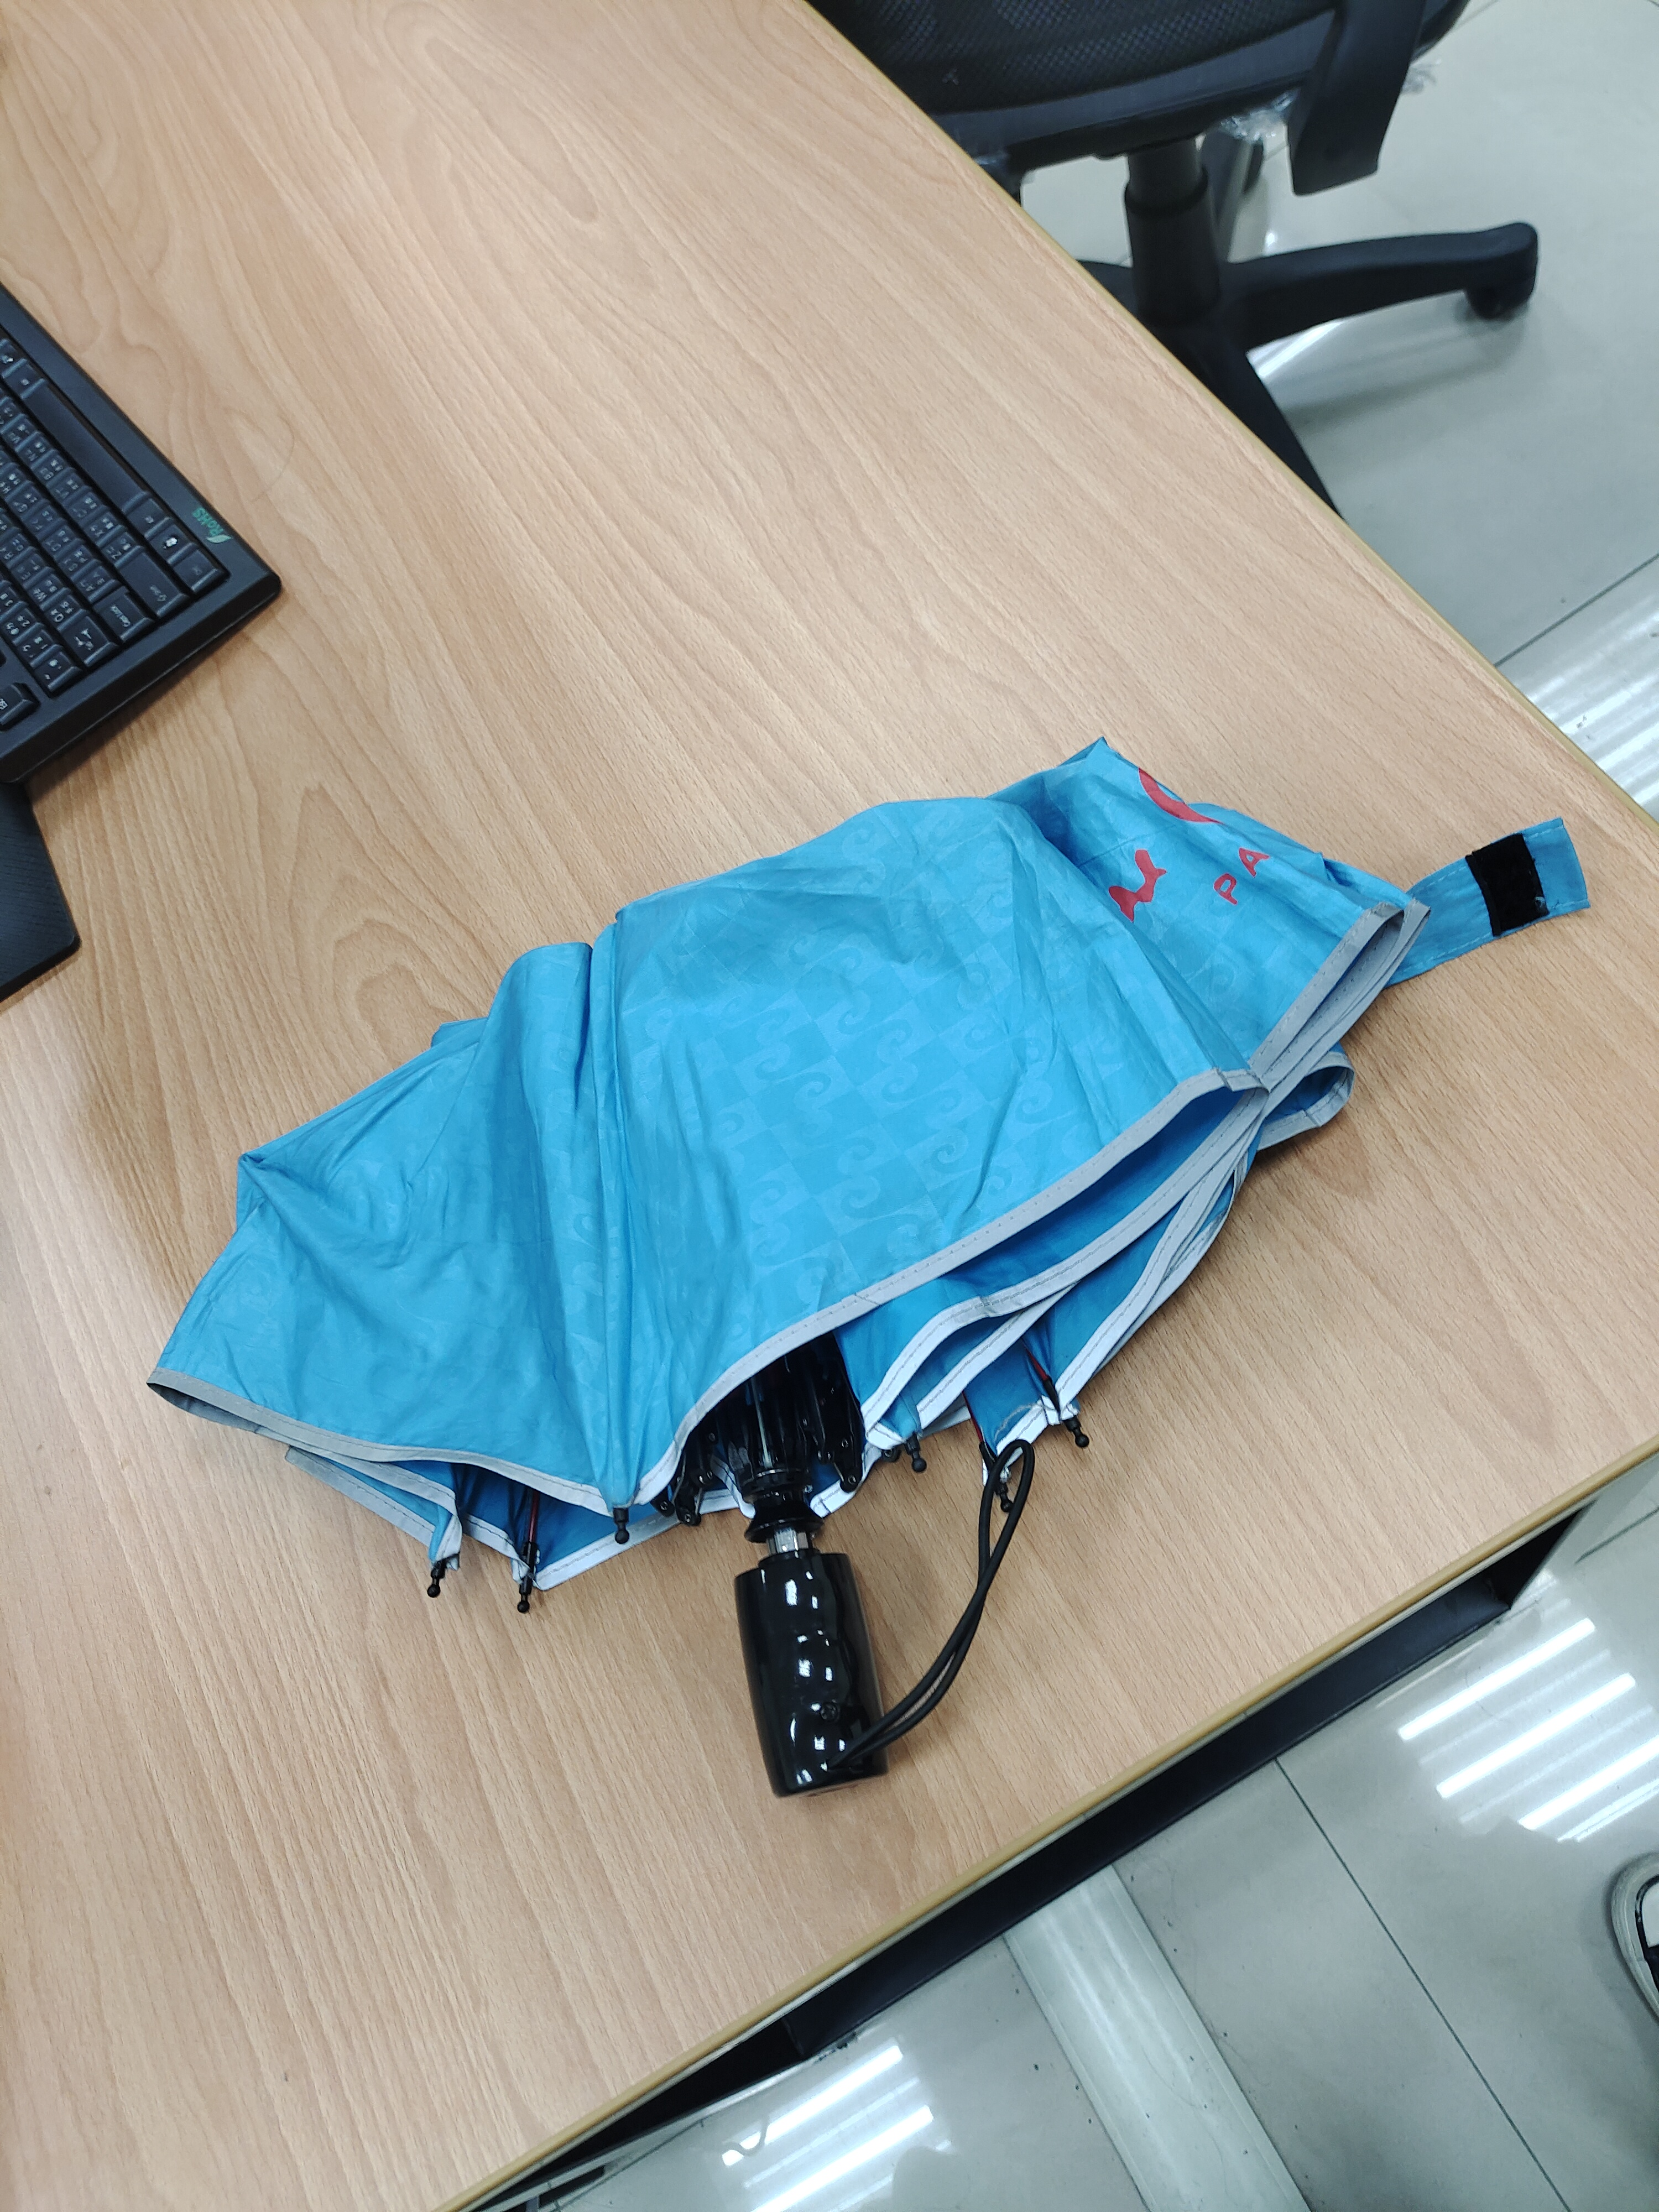umbrella: (152, 751, 1603, 1813)
